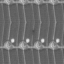dust: (31, 29, 35, 32)
